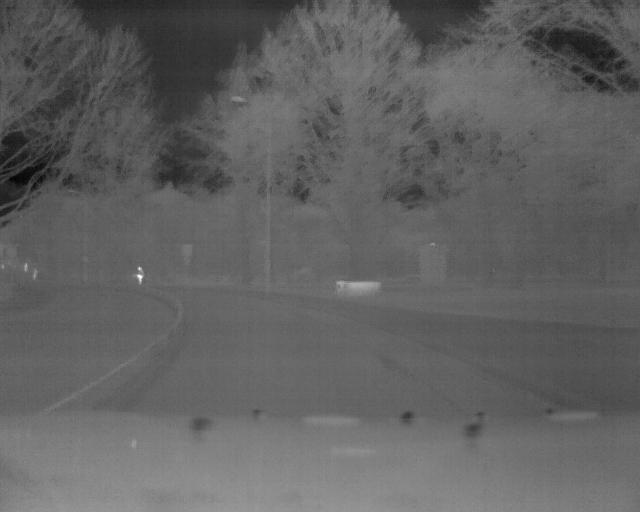person: (129, 264, 148, 286)
